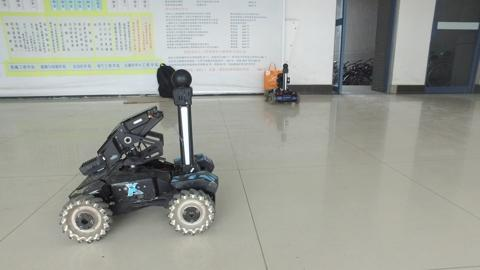bag: (145, 58, 187, 102)
chariot: (55, 67, 220, 242), (265, 57, 304, 112)
